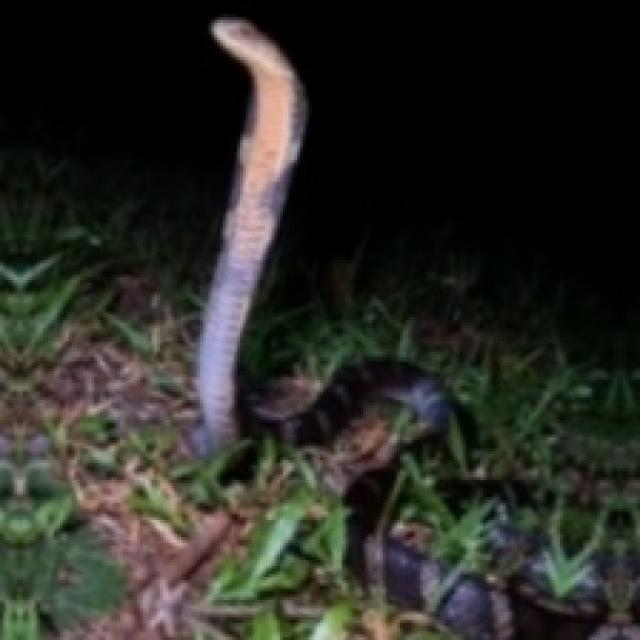king cobra: (189, 17, 306, 454)
